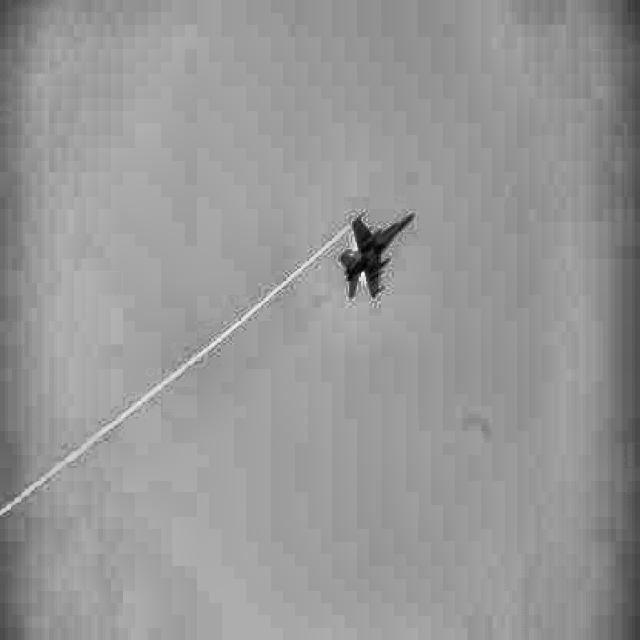F18: (339, 213, 415, 299)
